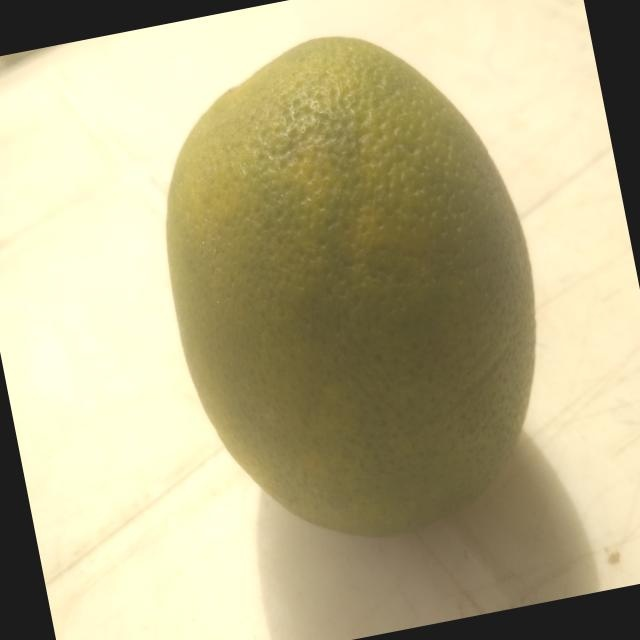agrume: (126, 4, 581, 576)
